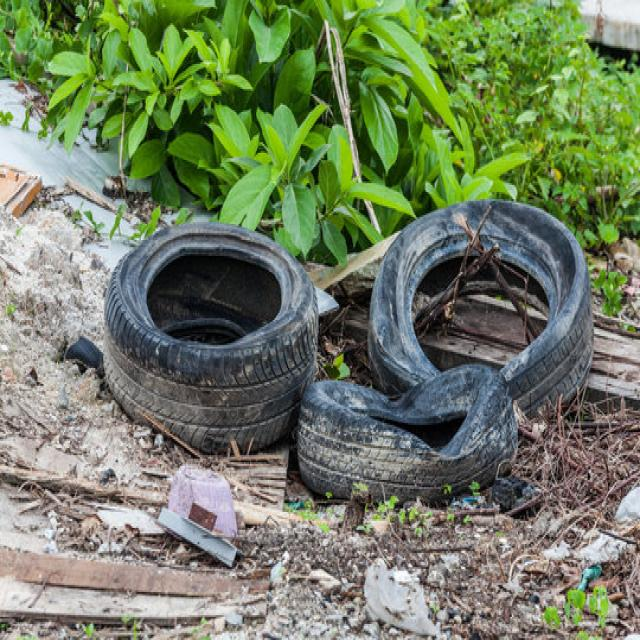tire: (366, 196, 594, 420), (101, 219, 319, 453), (295, 361, 518, 503)
